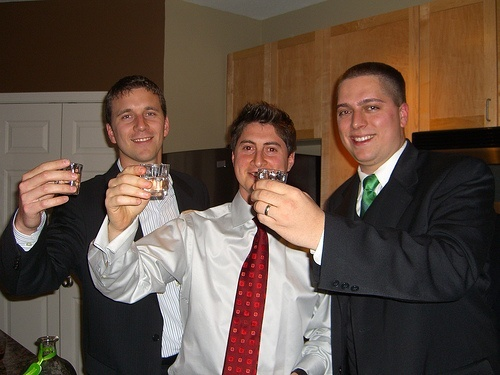head: (329, 60, 411, 165), (226, 102, 295, 192), (101, 76, 171, 164)
person: (76, 86, 332, 375), (259, 67, 498, 373), (1, 78, 191, 375)
